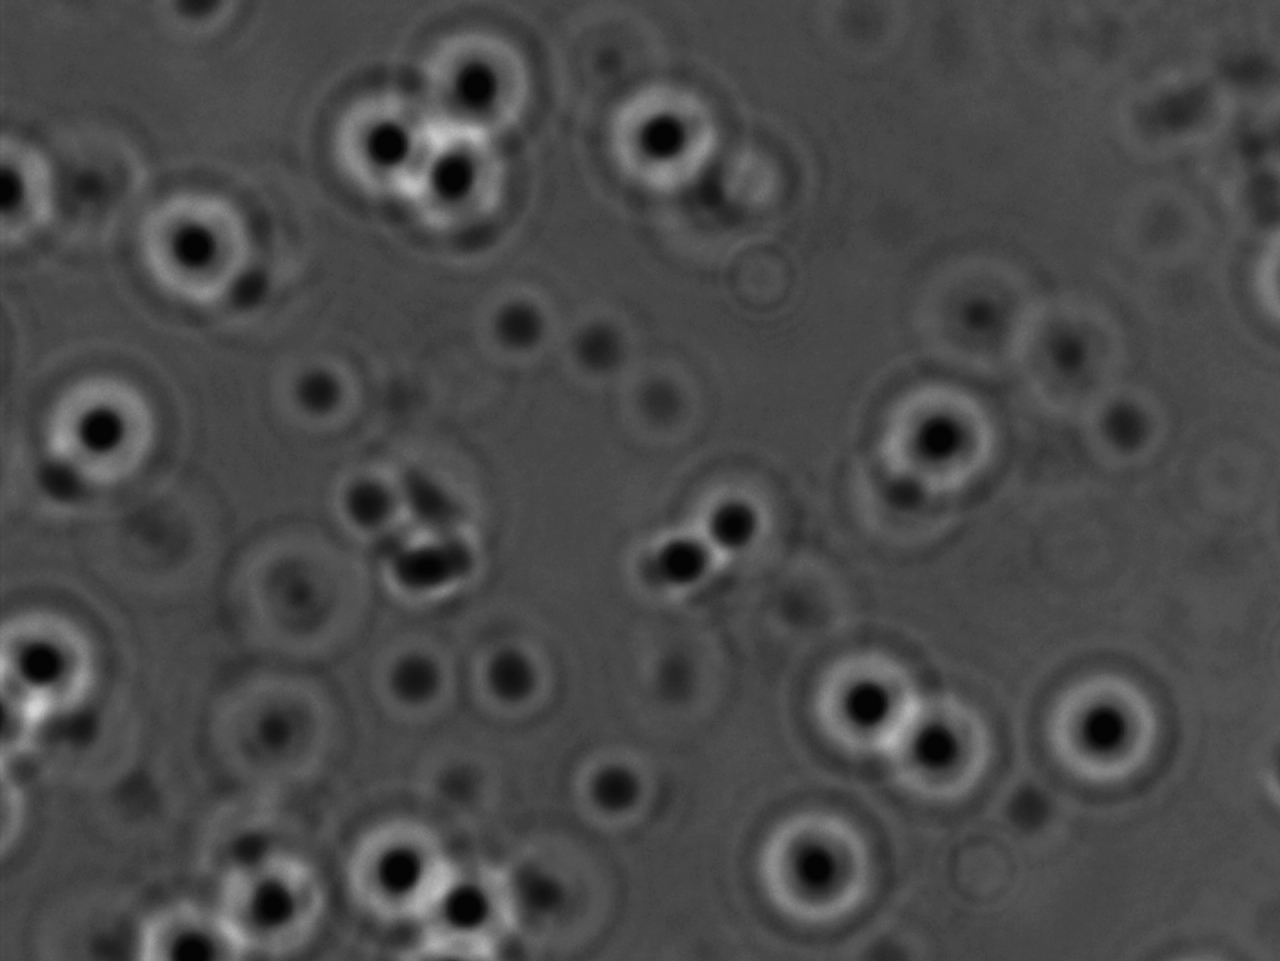depth:-32: (580, 56, 768, 231), (836, 347, 1016, 517), (790, 625, 951, 784), (748, 788, 906, 933), (119, 178, 269, 330), (1027, 655, 1171, 803), (306, 71, 449, 212), (880, 683, 1021, 826), (396, 116, 532, 257), (30, 356, 167, 490), (412, 17, 535, 151), (326, 804, 453, 925), (205, 845, 332, 947), (678, 462, 787, 572), (406, 856, 519, 957)
